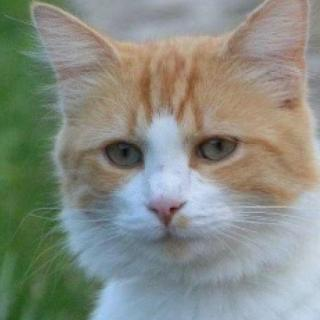cat: (29, 0, 320, 276)
nose: (146, 168, 192, 226)
